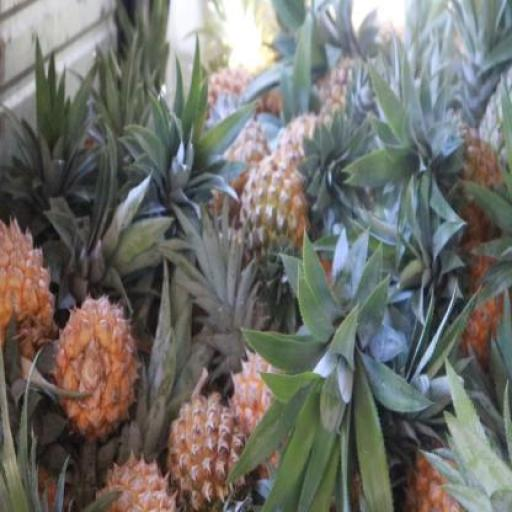Pineapple - v8 v1: (56, 298, 136, 432), (168, 398, 246, 512), (0, 220, 54, 370)
